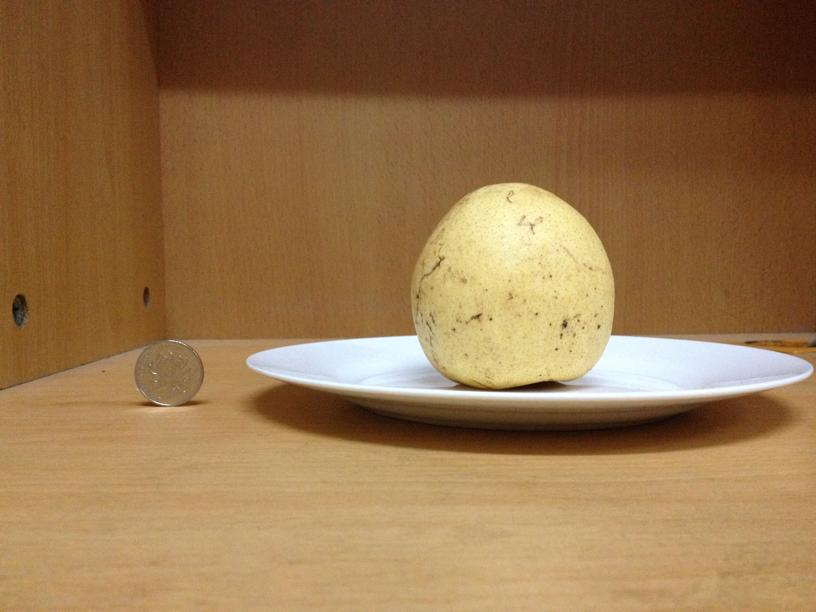coin: (129, 337, 204, 405)
pear: (410, 178, 619, 388)
